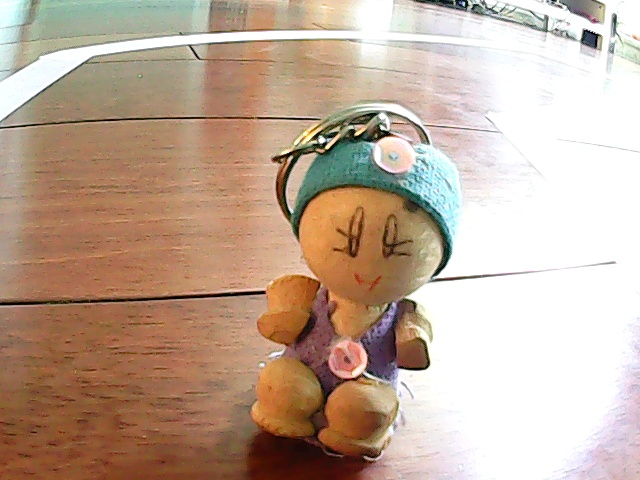pedestrain: (268, 107, 462, 468)
